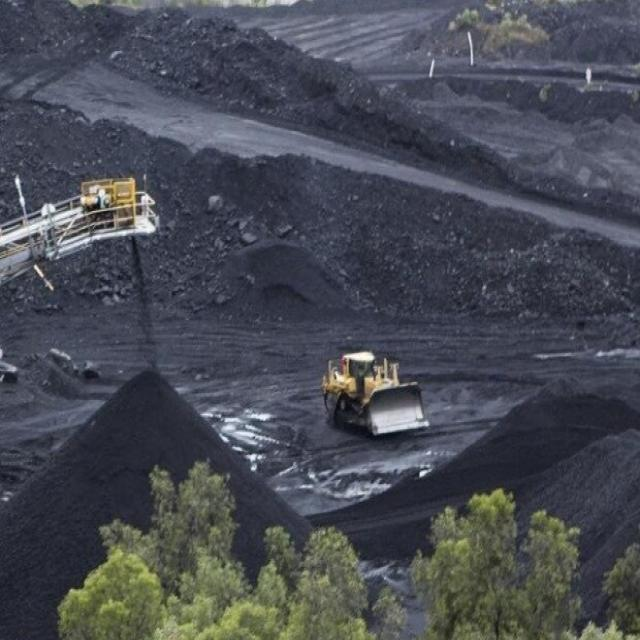buldozerpayloadergrader: (313, 342, 431, 451)
